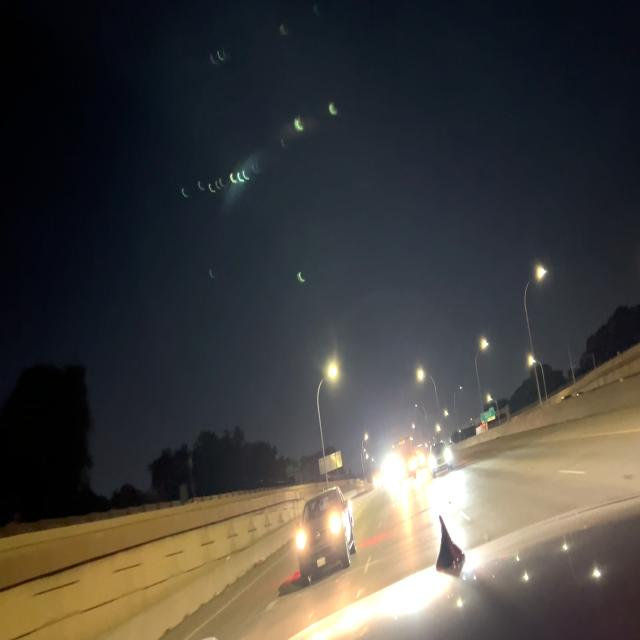back-of-sign: (317, 450, 344, 479)
